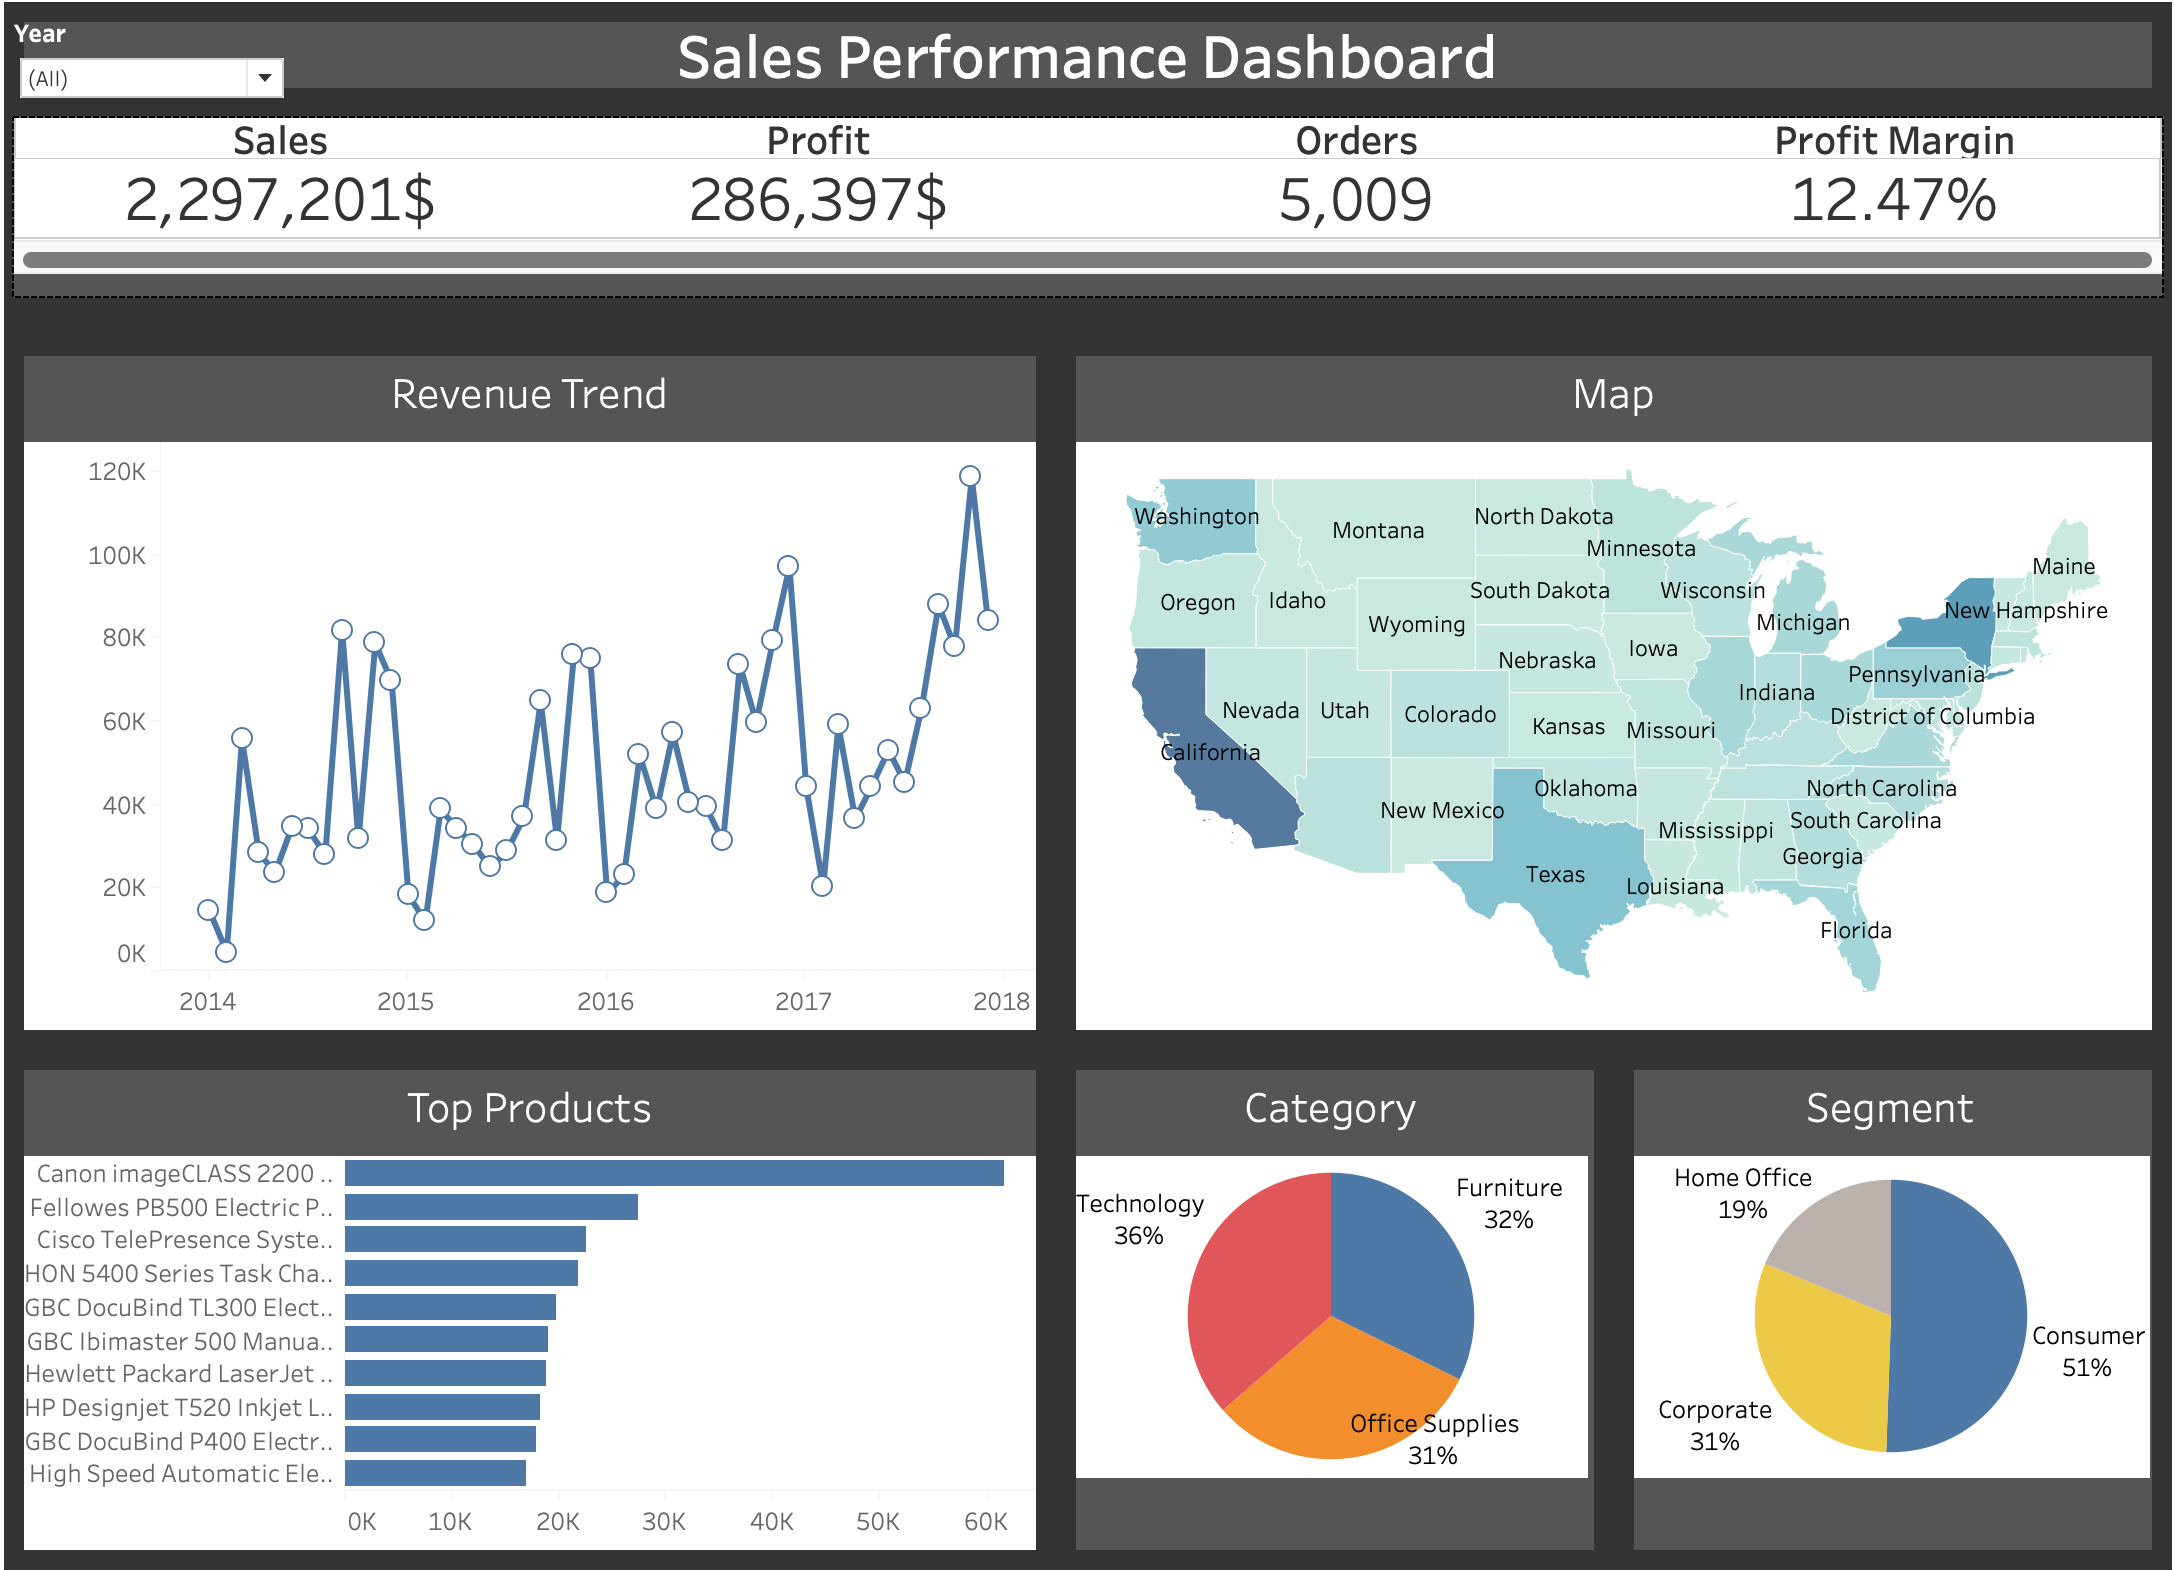

The dashboard page shown, as its layout file describes it:
{"tool":"tableau","page":{"name":"Dashboard 1","canvas":[1000,1000],"units":"permille","ordinal":0},"visuals":[{"type":"text","box":[7.3,11.6,985.5,82.5]},{"type":"filter","title":"KPIs","param":"[federated.1ogq9251p8sayn11ae3el1tvobnv].[yr:Order Date:ok]","box":[11.8,18.8,125.5,83.9]},{"type":"worksheet","title":"KPIs","mark":"Automatic","box":[7.3,94.1,985.5,102.8]},{"type":"worksheet","title":"Revenue Trend","mark":"Automatic","rows":["Sales","Sales"],"cols":["Order Date"],"box":[7.3,220,478.2,444.3]},{"type":"worksheet","title":"Map","mark":"Multipolygon","box":[485.4,220,507.3,444.3]},{"type":"worksheet","title":"Top Products","mark":"Automatic","rows":["Product Name"],"cols":["Sales"],"box":[7.3,664.3,478.2,324.2]},{"type":"worksheet","title":"Category","mark":"Pie","box":[485.4,664.3,253.7,324.2]},{"type":"worksheet","title":"Segment","mark":"Pie","box":[739.1,664.3,253.6,324.2]}]}

Visuals, with their boxes on the dashboard's canvas, which has no fixed pixel size, in thousandths of its width and height (x1, y1, x2, y2). These are canvas units, not pixel positions in the 2174x1570 screenshot, which may show the page scaled, cropped or inside an application window:
text: {"x1": 7, "y1": 12, "x2": 993, "y2": 94}
"KPIs" filter: {"x1": 12, "y1": 19, "x2": 137, "y2": 103}
"KPIs" worksheet: {"x1": 7, "y1": 94, "x2": 993, "y2": 197}
"Revenue Trend" worksheet: {"x1": 7, "y1": 220, "x2": 486, "y2": 664}
"Map" worksheet (Multipolygon marks): {"x1": 485, "y1": 220, "x2": 993, "y2": 664}
"Top Products" worksheet: {"x1": 7, "y1": 664, "x2": 486, "y2": 988}
"Category" worksheet (Pie marks): {"x1": 485, "y1": 664, "x2": 739, "y2": 988}
"Segment" worksheet (Pie marks): {"x1": 739, "y1": 664, "x2": 993, "y2": 988}
